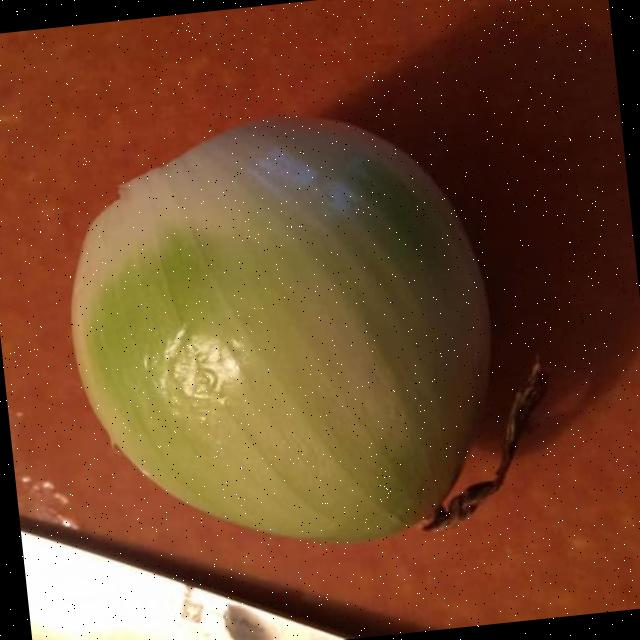Onion: (71, 115, 490, 541)
